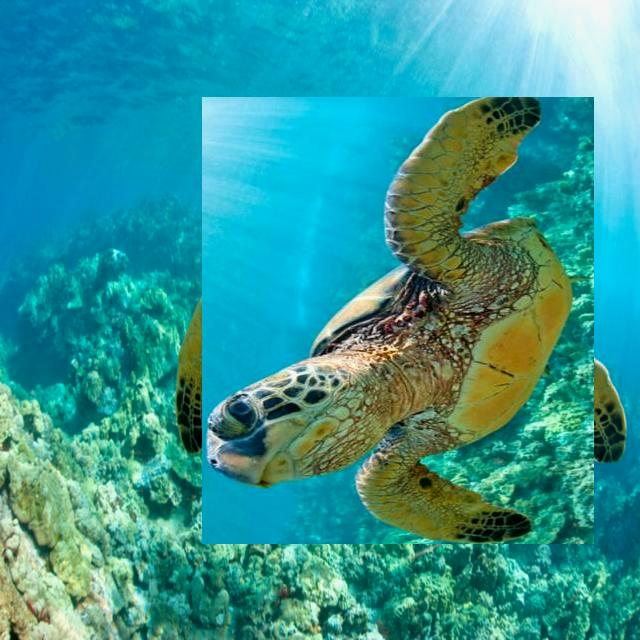Sea turtle: (188, 110, 608, 530)
